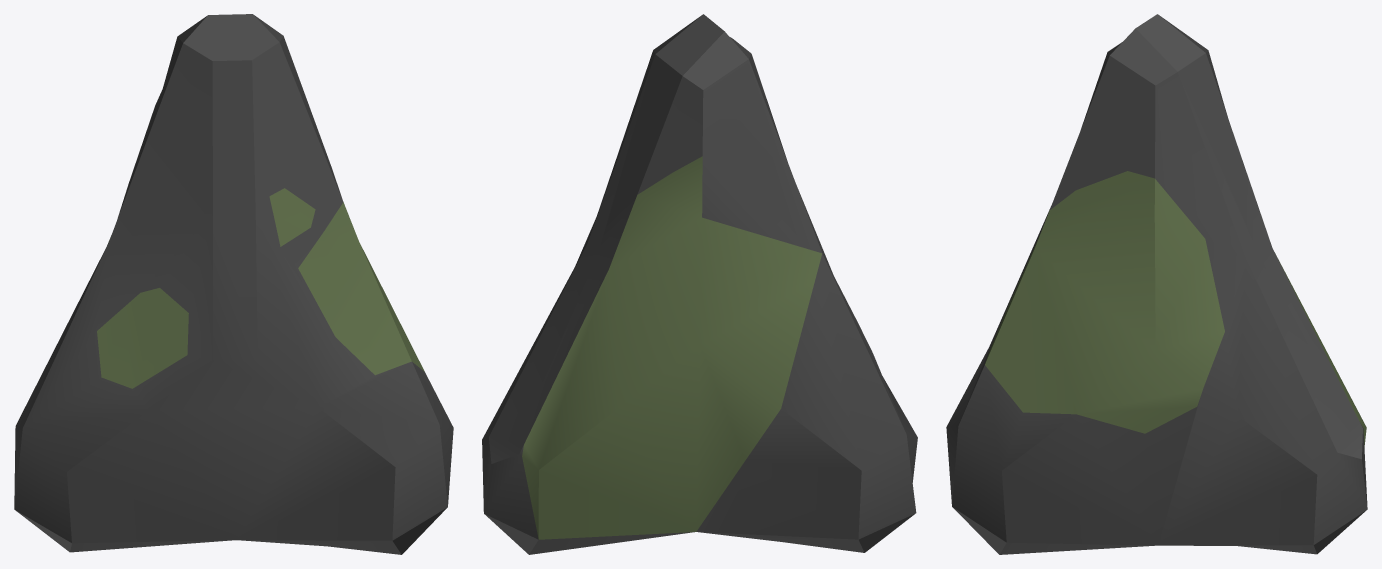
Rendered from Rock small 2 SB1.fbx.
The picture shows the model from 3 angles, left to right: view 1: azimuth 30°, elevation 25°; view 2: azimuth 150°, elevation 25°; view 3: azimuth 270°, elevation 25°; orthographic projection. The views are drawn at different scales.
Visible parts, largest first — view 1: rock.007; view 2: rock.007; view 3: rock.007.
Part boxes in pixels (<box>): rock.007: <box>14,14,453,554</box>; rock.007: <box>482,14,917,554</box>; rock.007: <box>946,14,1367,554</box>.
Size of the model in its own units: 53.17 by 73.64 by 55.86.
